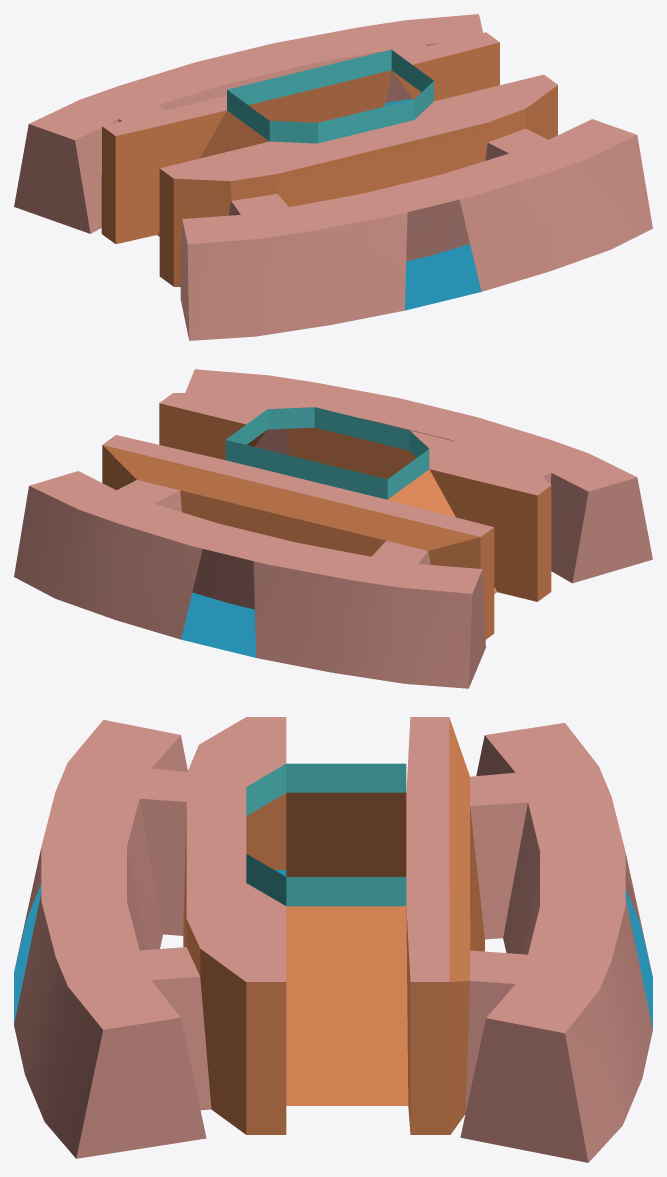
The model's file is cluster_14.fbx.
The picture shows the model from 3 angles, top to bottom: view 1: azimuth 30°, elevation 25°; view 2: azimuth 150°, elevation 25°; view 3: azimuth 270°, elevation 25°; orthographic projection. The views are drawn at different scales.
Visible parts, largest first — view 1: cluster_14; view 2: cluster_14; view 3: cluster_14.
Boxes of the visible parts, <box> form: cluster_14: <box>14,14,652,340</box>; cluster_14: <box>14,369,652,688</box>; cluster_14: <box>14,717,652,1162</box>.
Size of the model in its own units: 75770 by 19905 by 63284.
